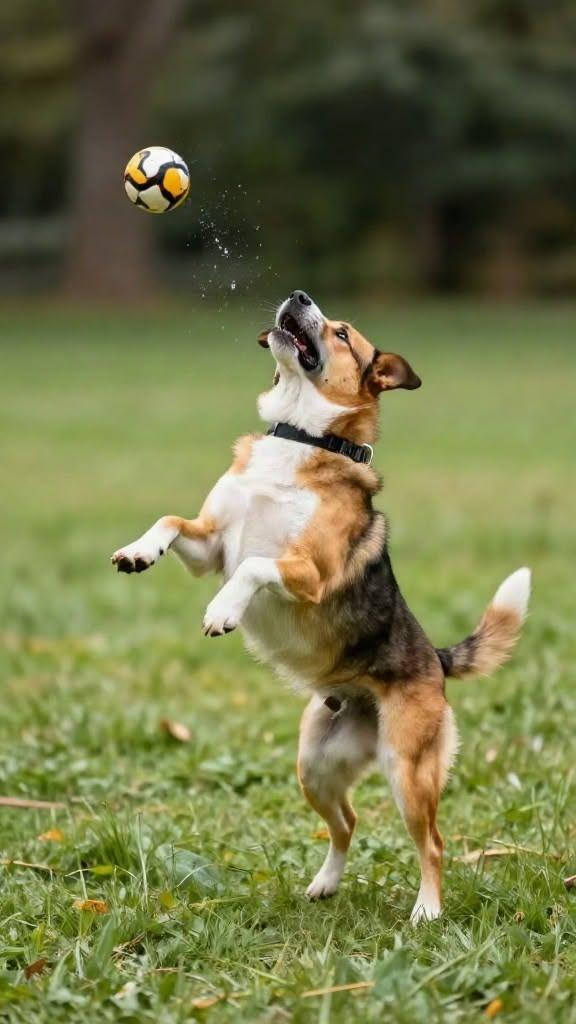adult_dog: (111, 289, 534, 932)
non-dog: (122, 145, 193, 215)
